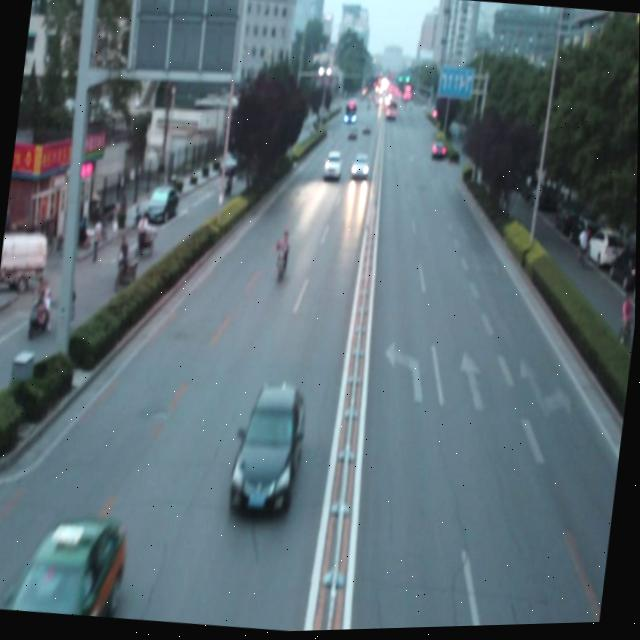car: (8, 507, 132, 621), (225, 381, 311, 523)
